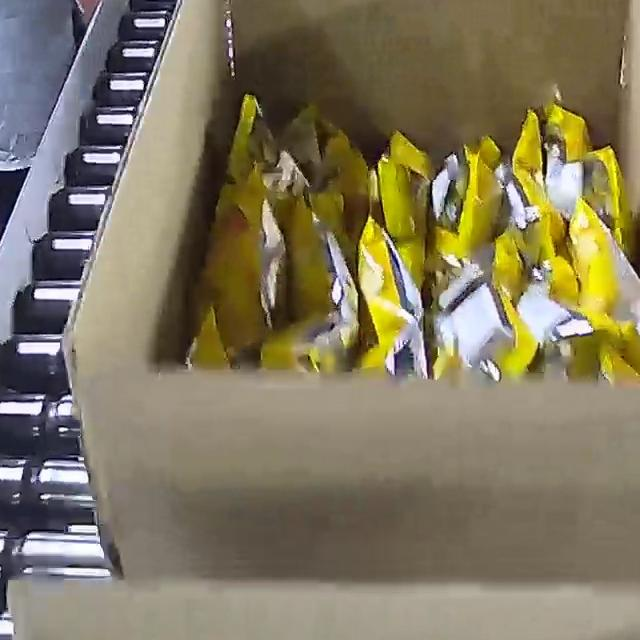salted: (181, 85, 640, 387)
